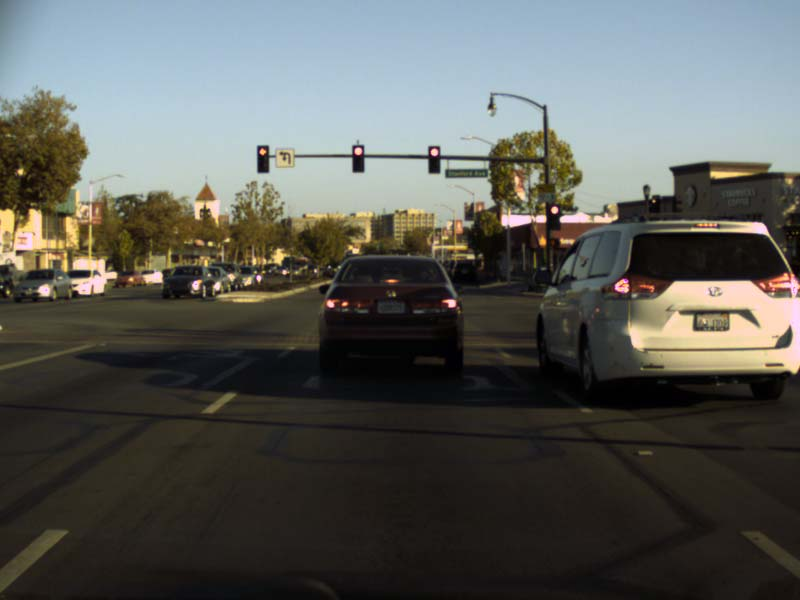Red: (257, 144, 269, 173), (427, 146, 439, 173), (352, 144, 363, 173), (548, 203, 560, 229)
